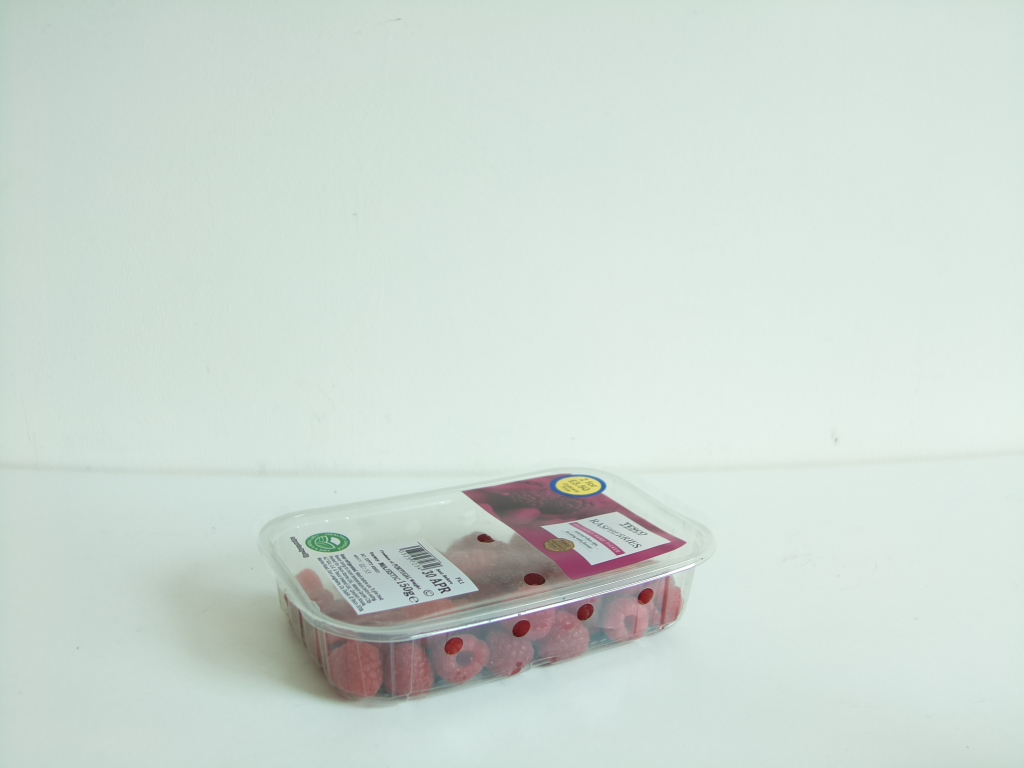soft-fruit: (259, 470, 712, 696)
